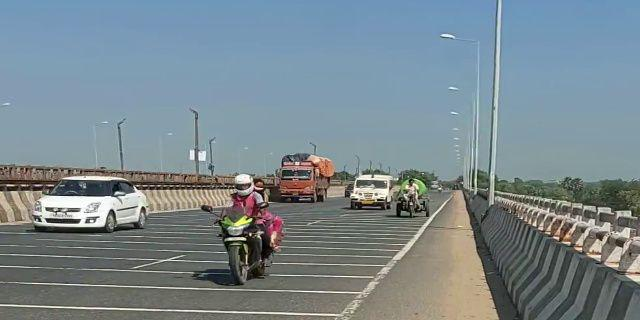Car: (27, 171, 150, 237), (348, 170, 394, 215)
Motorbike: (209, 167, 283, 290)
Truck: (276, 152, 334, 206)
Van: (391, 176, 435, 223)
